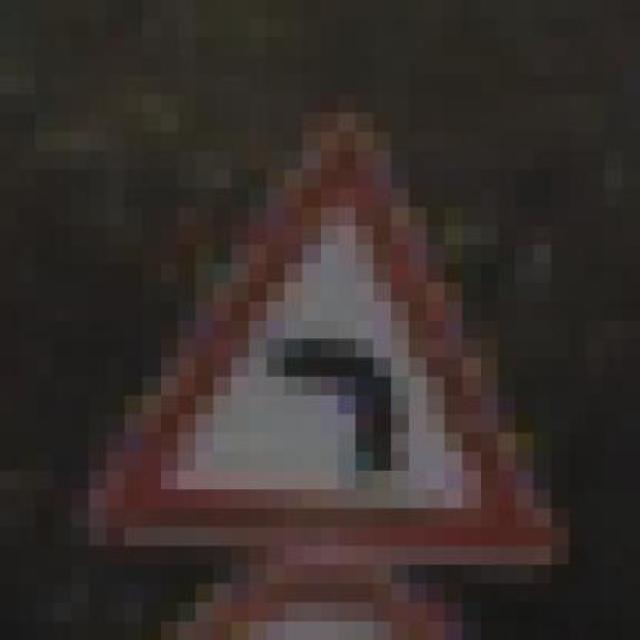Dangerous Left Curve Ahead: (89, 90, 568, 578)
